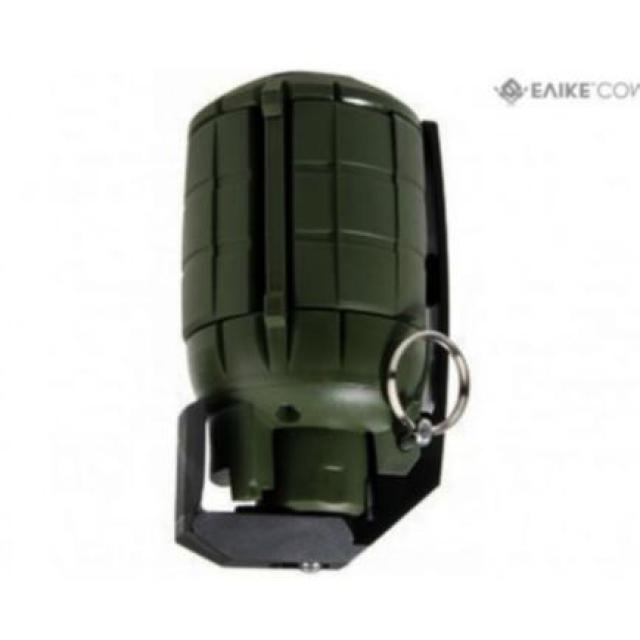grenade: (175, 78, 468, 573)
